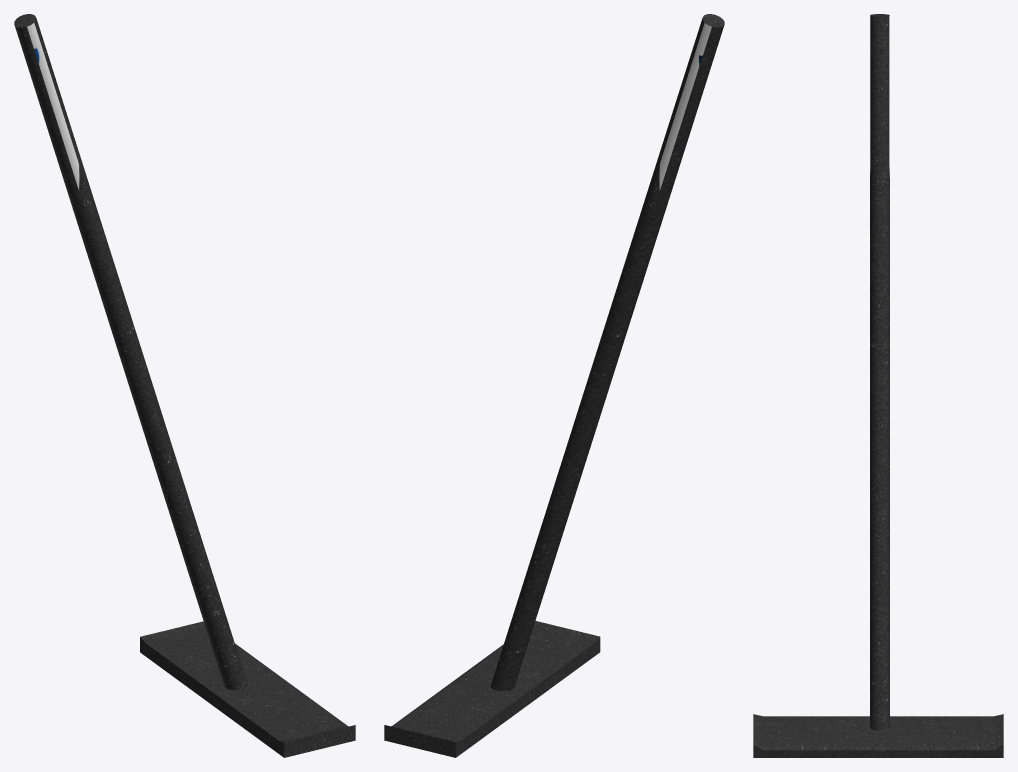
Rendered from Mop.fbx.
3 renders of one model, left to right at view 1: azimuth 30°, elevation 25°; view 2: azimuth 150°, elevation 25°; view 3: azimuth 270°, elevation 25°, orthographic. The views are drawn at different scales.
Visible parts, largest first — view 1: Pole, Mop; view 2: Pole, Mop; view 3: Pole, Mop.
Part boxes in pixels (x1,y1,x2,y2): Pole: (14, 14, 247, 690); Mop: (140, 621, 355, 757); Pole: (490, 14, 724, 691); Mop: (384, 621, 600, 757); Pole: (870, 14, 889, 730); Mop: (753, 714, 1003, 757).
Size of the model in its own units: 61.16 by 160 by 57.17.
